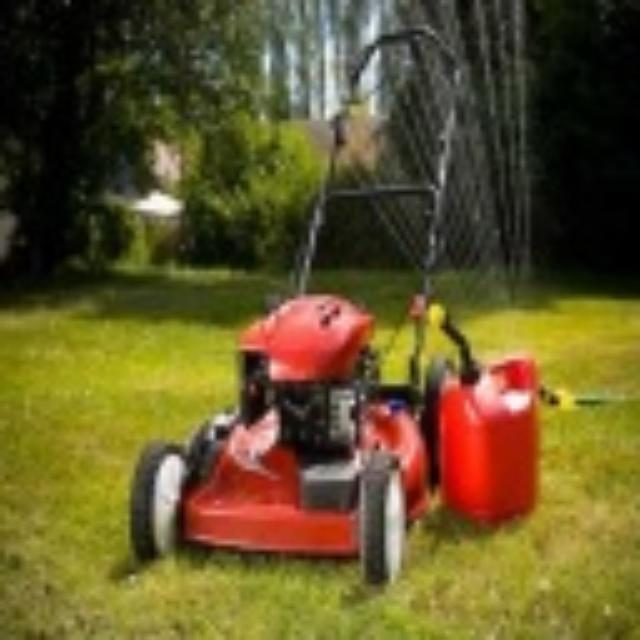Rotary-Mower: (120, 20, 550, 590)
